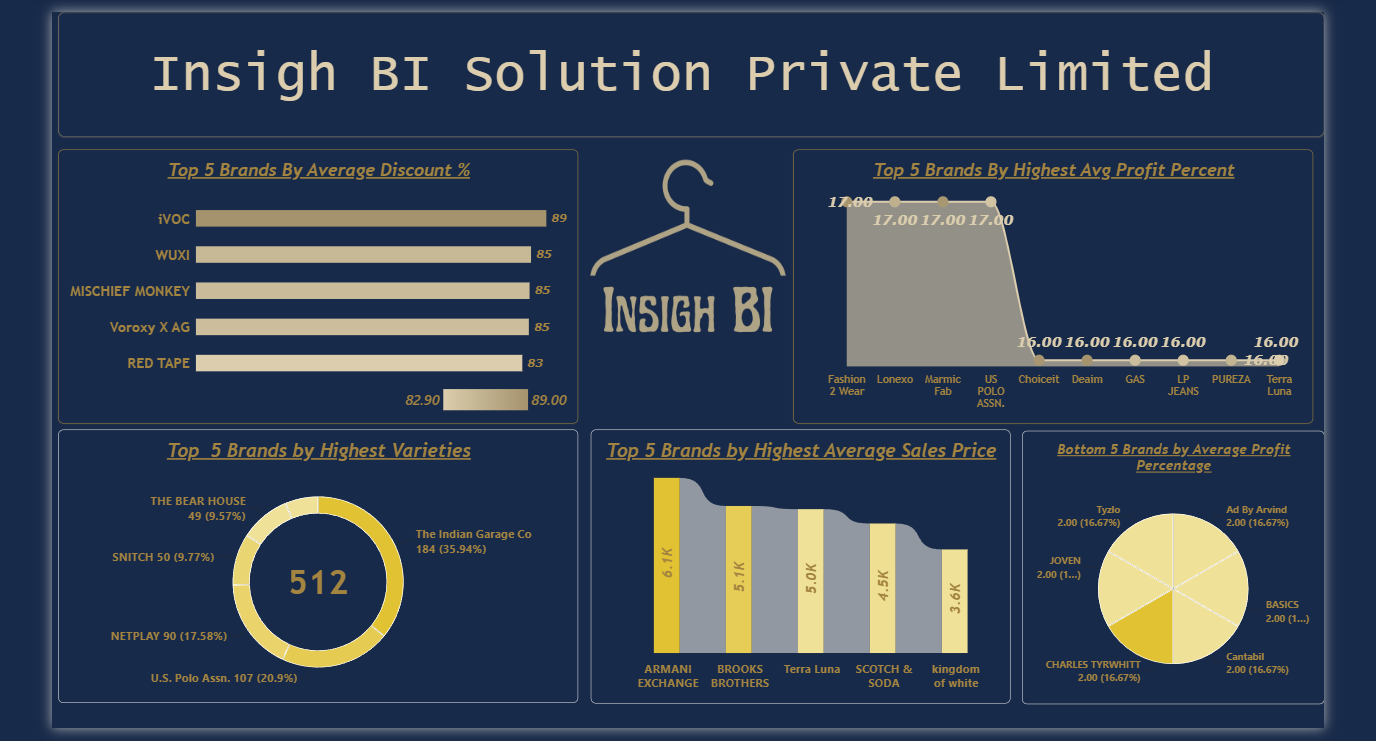

Layout of this report page (visuals, bound fields, positions):
{"tool":"powerbi","page":{"name":"Page 1","canvas":[1920,1080],"ordinal":1},"visuals":[{"type":"ScrollingTextVisual1448795304508","fields":{"Category":["Men_Tshirt.Brand"]},"box":[9.4,0,1911.3,188.7],"z":0},{"type":"barChart","title":"Top 5 Brands By Average Discount % ","fields":{"Category":["Men_Tshirt.Brand"],"Y":["Avg(Men_Tshirt.Discount %)"]},"box":[9.4,207.5,784.9,413.2],"z":1000},{"type":"donutChart","title":"Top  5 Brands by Highest Varieties","fields":{"Category":["Men_Tshirt.Brand"],"Y":["CountNonNull(Men_Tshirt.Title)"]},"box":[9,631,785,413],"z":2000},{"type":"ribbonChart","title":"Top 5 Brands by Highest Average Sales Price","fields":{"Category":["Men_Tshirt.Brand"],"Y":["Avg(Men_Tshirt.Sales Price)"]},"box":[813.2,630.2,634,413.2],"z":3000},{"type":"areaChart","title":"Top 5 Brands By Highest Avg Profit Percent","fields":{"Category":["Men_Tshirt.Brand"],"Y":["Avg(Men_Tshirt.Profit %)"]},"box":[1118.9,207.5,784.9,413.2],"z":4000},{"type":"pieChart","title":"Bottom 5 Brands by Average Profit Percentage","fields":{"Category":["Men_Tshirt.Brand"],"Y":["Avg(Men_Tshirt.Profit %)"]},"box":[1464.2,632.1,457,413],"z":4001}]}

Visuals, with their boxes on the page's 1920x1080 design canvas (x1, y1, x2, y2). These are canvas units, not pixel positions in the 1376x741 screenshot, which may show the page scaled, cropped or inside an application window:
ScrollingTextVisual1448795304508 - Men_Tshirt.Brand: 9 0 1921 189
"Top 5 Brands By Average Discount % " barChart: 9 208 794 621
"Top  5 Brands by Highest Varieties" donutChart: 9 631 794 1044
"Top 5 Brands by Highest Average Sales Price" ribbonChart: 813 630 1447 1043
"Top 5 Brands By Highest Avg Profit Percent" areaChart: 1119 208 1904 621
"Bottom 5 Brands by Average Profit Percentage" pieChart: 1464 632 1921 1045
